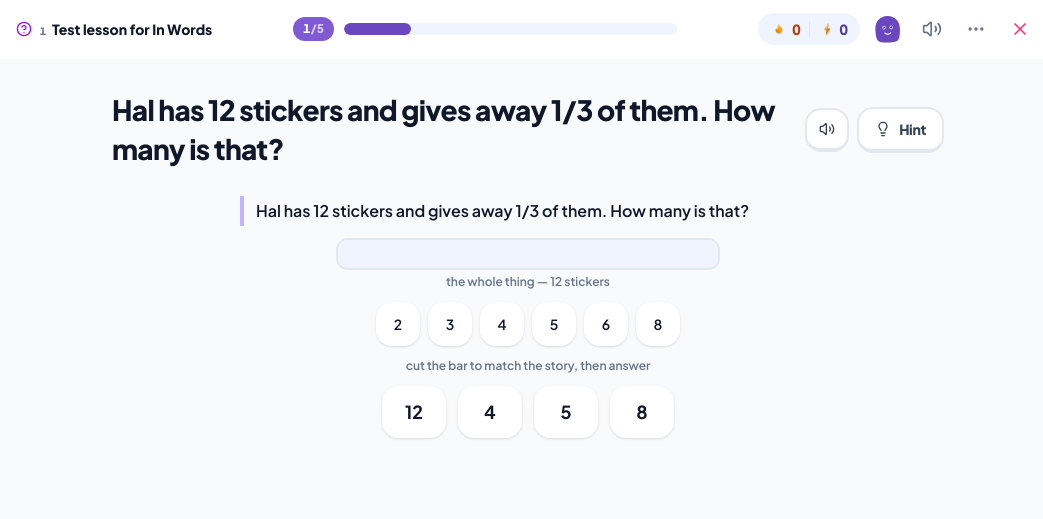
Scenario: the bar is cut by the child, and can be put back › starts whole and takes a cut
Expected: the element with test id "bar" shows "the whole thing", [446, 274, 610, 289]
Click the 1st button "4": point(502, 324) [480, 302, 524, 346]
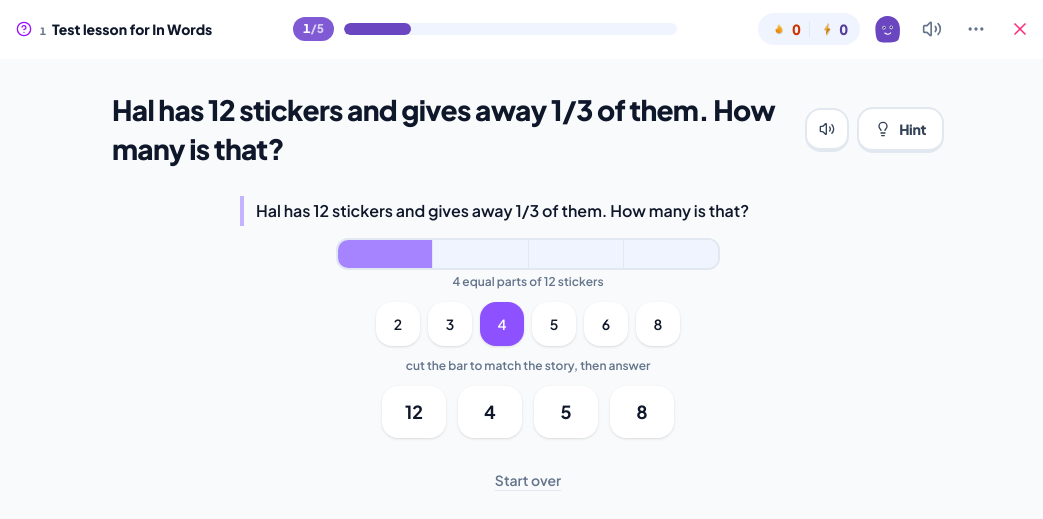
Now the element with test id "bar" shows "4 equal parts", box [452, 274, 604, 289]
Click the button "Start over": point(528, 480) [479, 458, 577, 502]
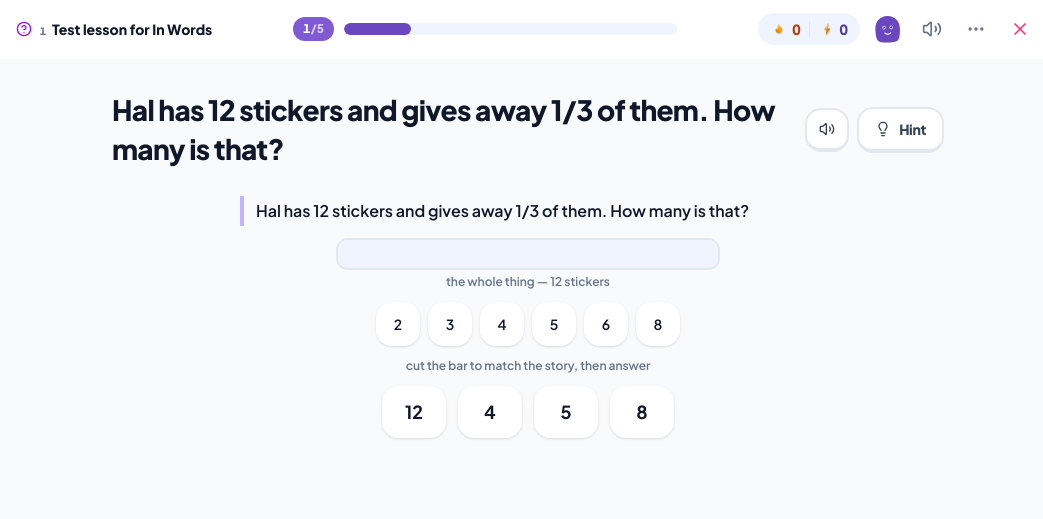
Now the element with test id "bar" shows "the whole thing", box [446, 274, 610, 289]
